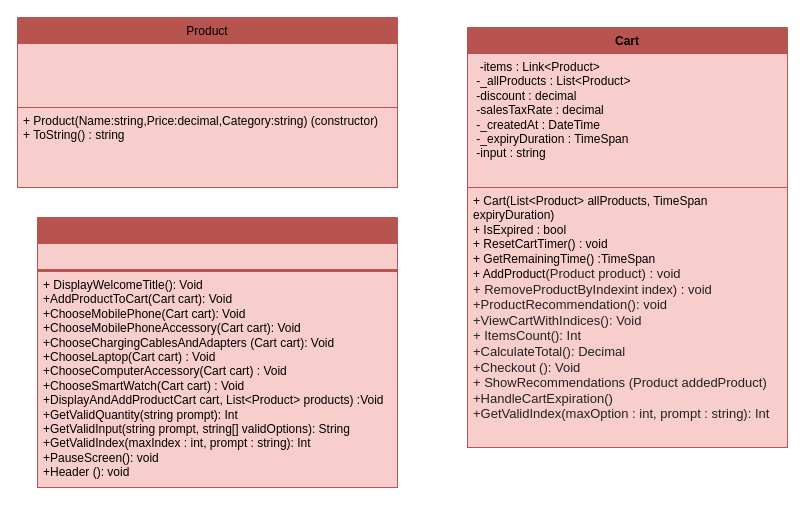
Some shapes in this 805 by 508 pixel diagram are drawn without their labels. Here are the shapes that lost their labels. From the top down, the box of each, then its label:
(16, 42, 398, 108): + Name : string + Price : decimal + Category : string
(36, 216, 398, 488): Program
